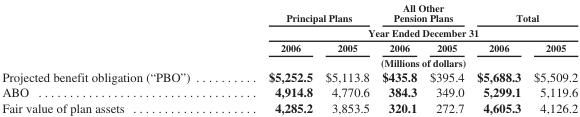table: (1, 1, 577, 114)
table column: (1, 1, 228, 114), (228, 1, 318, 114), (318, 1, 375, 114), (469, 1, 526, 114), (526, 1, 577, 114), (375, 1, 422, 114), (422, 1, 469, 114)
table column header: (1, 1, 577, 68)
table row: (1, 1, 577, 24), (1, 68, 577, 84), (1, 24, 577, 39), (1, 39, 577, 54), (1, 84, 577, 99), (1, 99, 577, 114), (1, 54, 577, 68)
table spanning cell: (228, 24, 577, 39), (228, 54, 577, 68), (228, 1, 375, 24), (469, 1, 577, 24), (375, 1, 469, 24)
